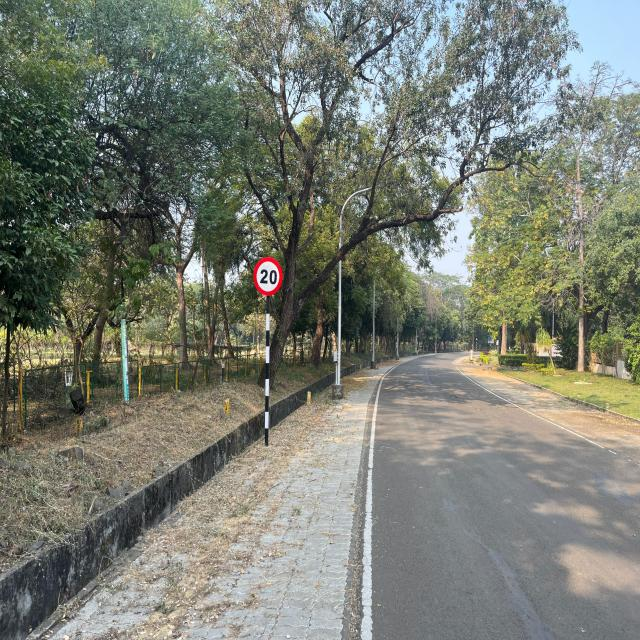forb_speed_over_20: (252, 256, 284, 297)
